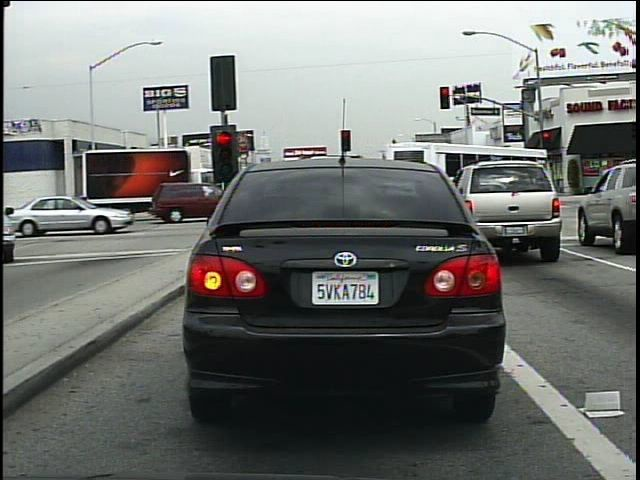person: (79, 183, 101, 218)
